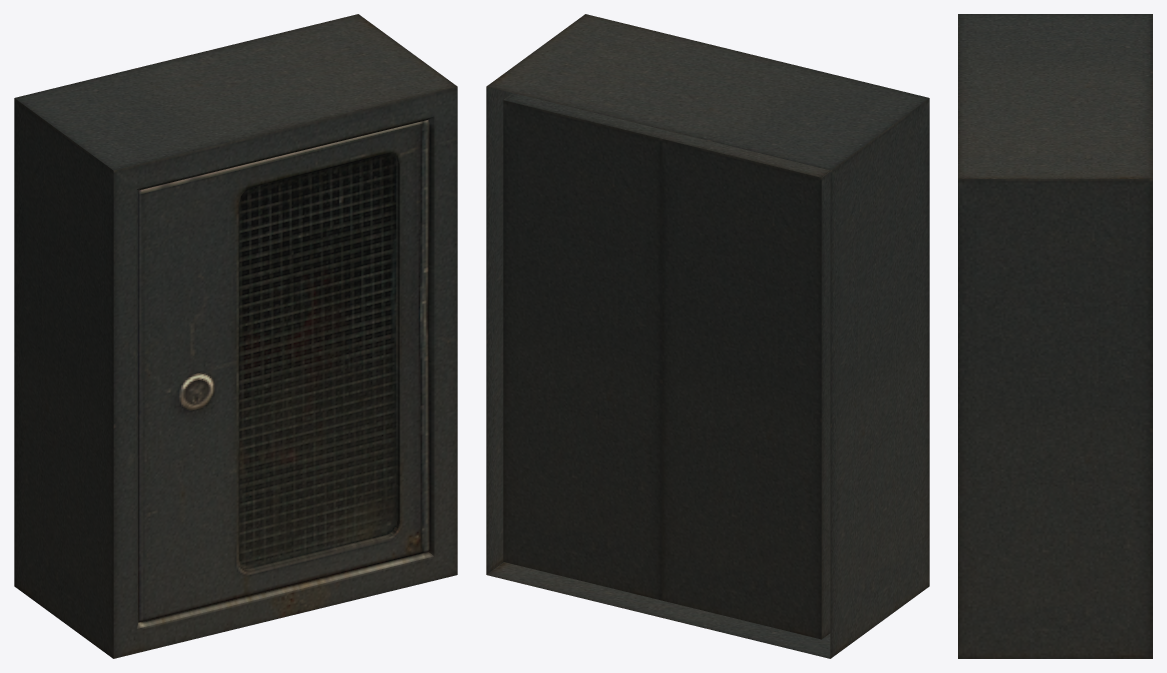
The model's file is wall_box_1.obj.
The picture shows the model from 3 angles, left to right: view 1: azimuth 30°, elevation 25°; view 2: azimuth 150°, elevation 25°; view 3: azimuth 270°, elevation 25°; orthographic projection.
Visible parts, largest first — view 1: wall_box_1_door, wall_box_1; view 2: wall_box_1; view 3: wall_box_1.
Part boxes in pixels (<box>): wall_box_1_door: <box>138,119,428,622</box>; wall_box_1: <box>14,14,457,658</box>; wall_box_1: <box>486,14,929,658</box>; wall_box_1: <box>958,14,1152,658</box>.
Size of the model in its own units: 0.491 by 0.666 by 0.245.
